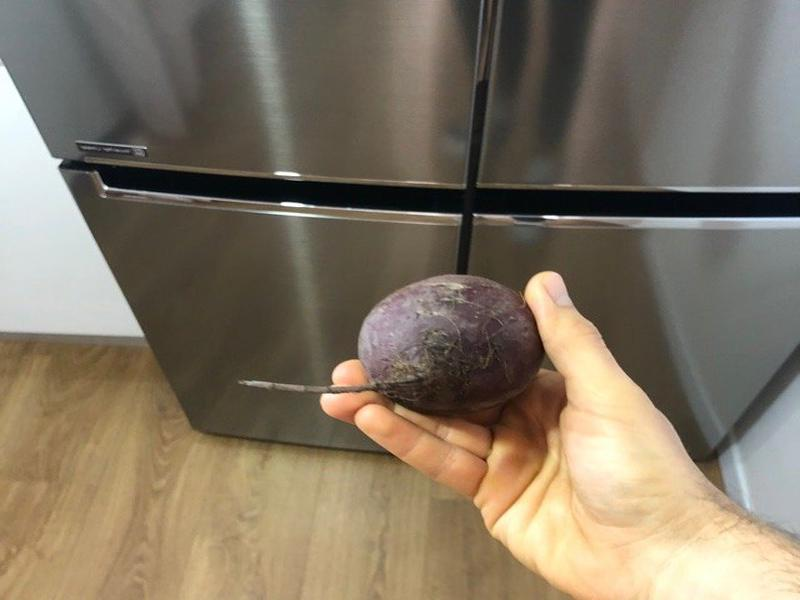Beet: (236, 273, 542, 413)
